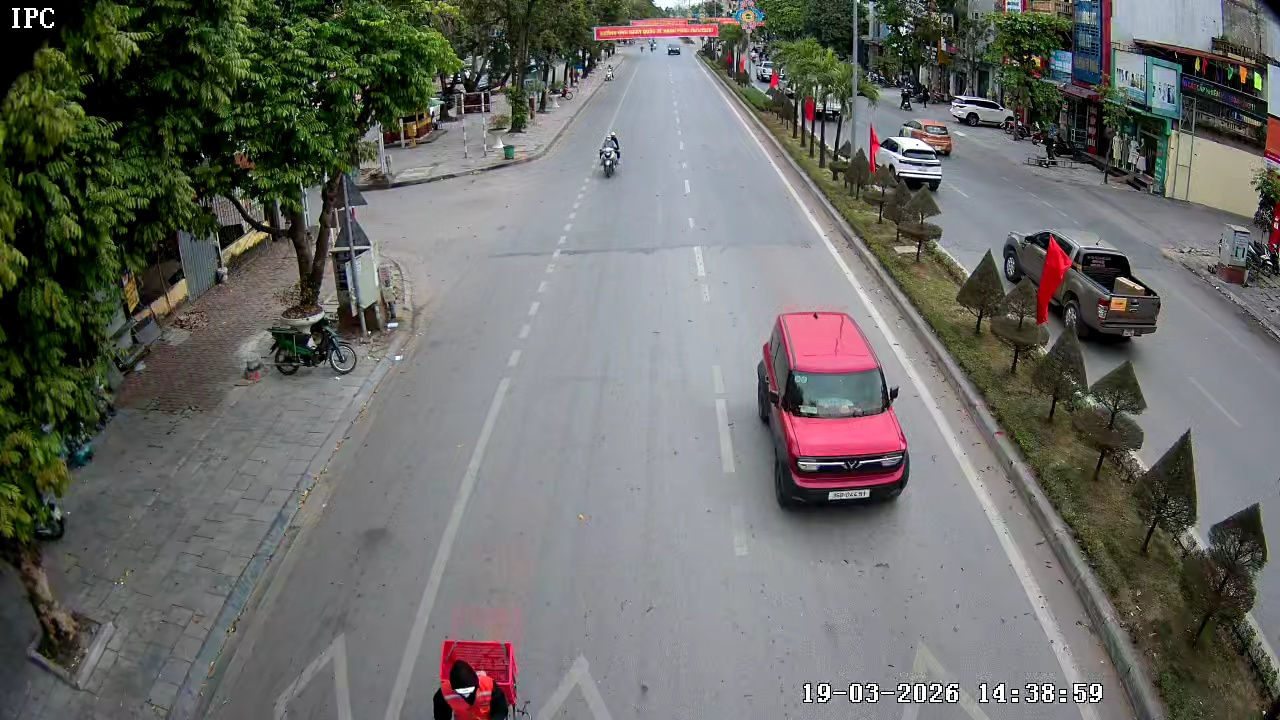car: (754, 312, 909, 509), (1002, 227, 1160, 341)
exception: (409, 635, 530, 718)
motorbike: (263, 306, 362, 377), (596, 130, 623, 179)
